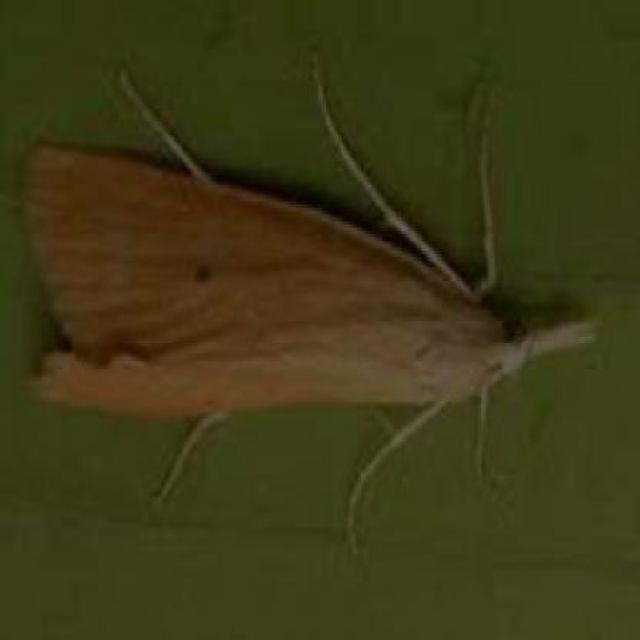stem-borer: (24, 47, 599, 564)
